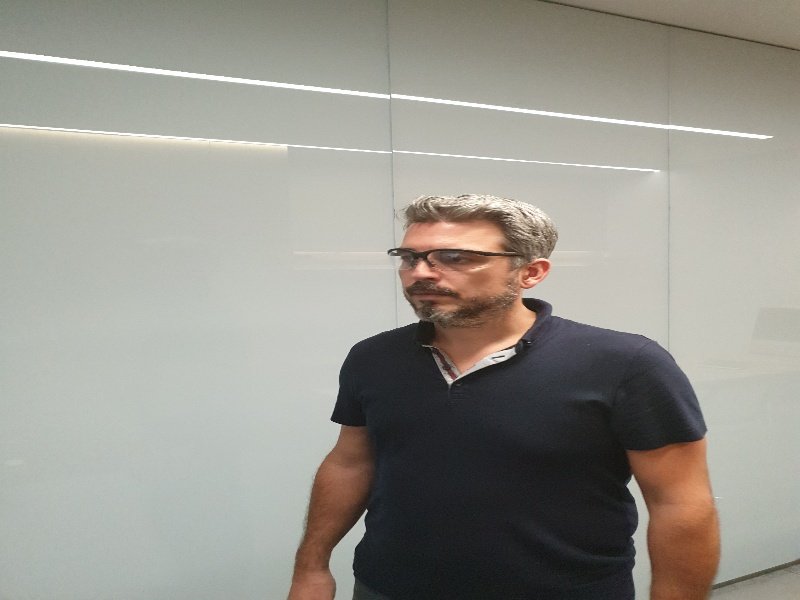Gozluk: (389, 247, 519, 268)
